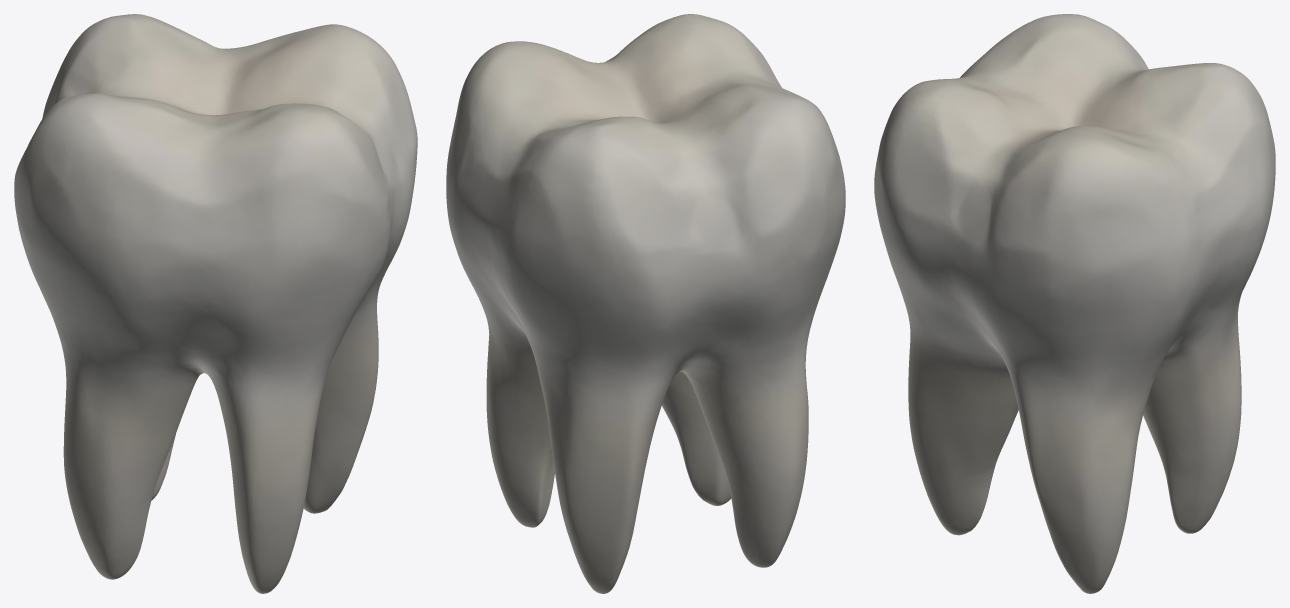
3 renders of one model, left to right at view 1: azimuth 30°, elevation 25°; view 2: azimuth 150°, elevation 25°; view 3: azimuth 270°, elevation 25°, orthographic. The views are drawn at different scales.
Parts seen in each view (by area): view 1: tripo_node_51aabcc4-7d0d-479e-bba5-6a358d6b3893; view 2: tripo_node_51aabcc4-7d0d-479e-bba5-6a358d6b3893; view 3: tripo_node_51aabcc4-7d0d-479e-bba5-6a358d6b3893.
Part boxes in pixels (x1,y1,x2,y2): tripo_node_51aabcc4-7d0d-479e-bba5-6a358d6b3893: (14, 14, 417, 593); tripo_node_51aabcc4-7d0d-479e-bba5-6a358d6b3893: (446, 14, 845, 593); tripo_node_51aabcc4-7d0d-479e-bba5-6a358d6b3893: (874, 14, 1275, 593).
Bounding box in the file's own units: 0.8021 × 1 × 0.7853.
1 material, 1 textured.
